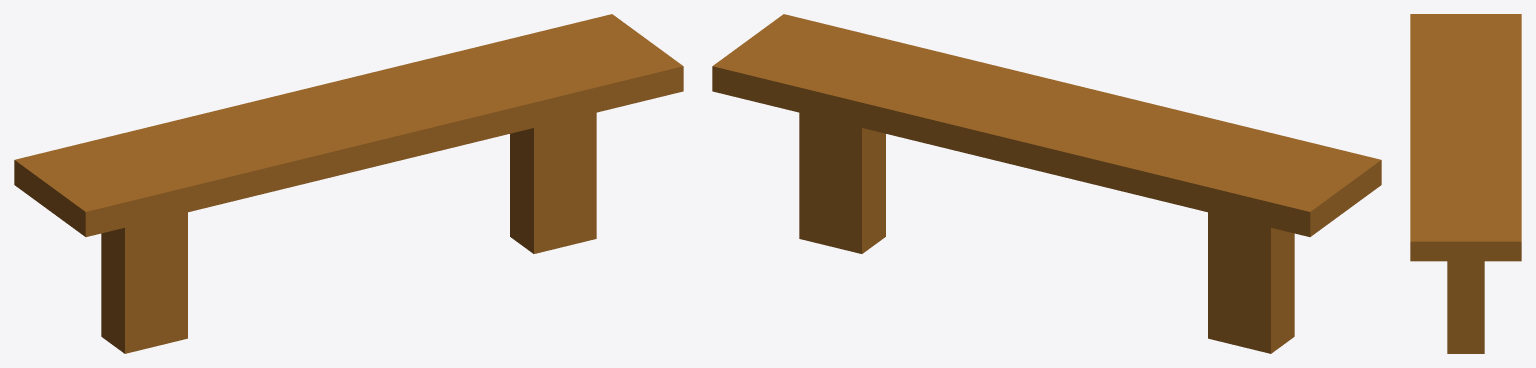
File: Chair.glb
3 renders of one model, left to right at view 1: azimuth 30°, elevation 25°; view 2: azimuth 150°, elevation 25°; view 3: azimuth 270°, elevation 25°, orthographic. The views are drawn at different scales.
Visible parts, largest first — view 1: Cube.003; view 2: Cube.003; view 3: Cube.003.
Boxes of the visible parts, left/top/right/bottom form: Cube.003: left=14, top=14, right=683, bottom=353; Cube.003: left=712, top=14, right=1381, bottom=353; Cube.003: left=1410, top=14, right=1521, bottom=353.
Bounding box in the file's own units: 5.34 × 1.49 × 1.1.
